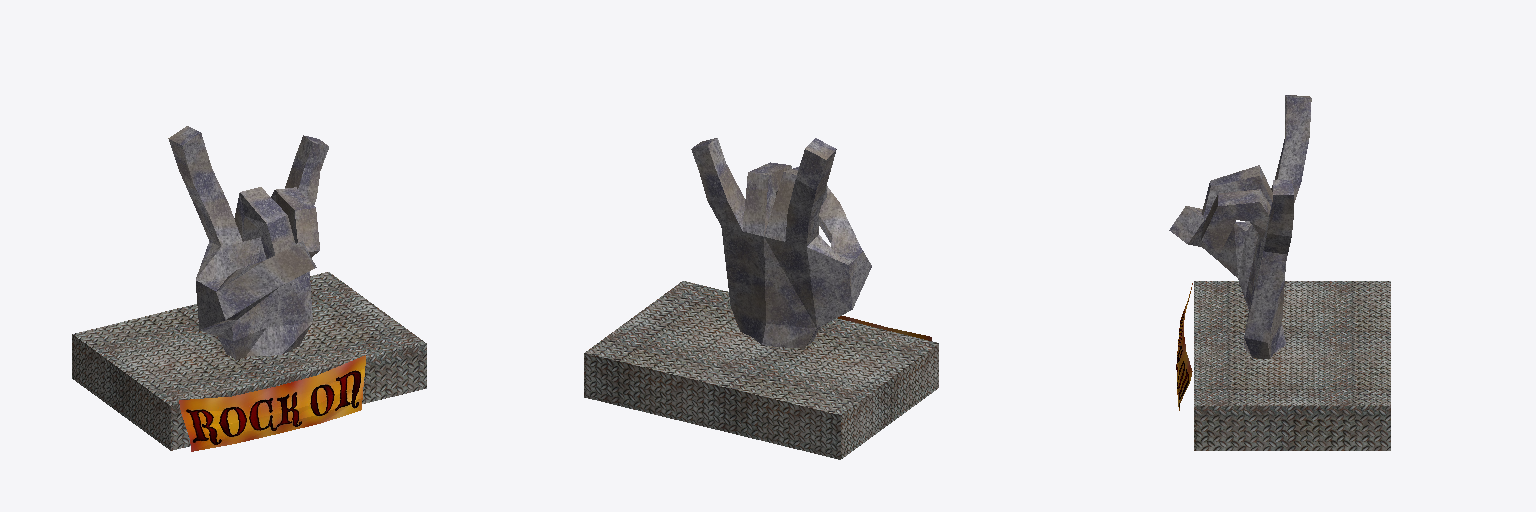
3 views of the same model, side by side, from view 1: azimuth 30°, elevation 25°; view 2: azimuth 150°, elevation 25°; view 3: azimuth 270°, elevation 25° (orthographic).
Parts seen in each view (by area): view 1: Cube; view 2: Cube; view 3: Cube.
Boxes of the visible parts, x1,y1,x2,y2 form: Cube: [72, 126, 426, 451]; Cube: [584, 138, 938, 459]; Cube: [1169, 95, 1390, 450].
Size of the model in its own units: 6 by 5.97 by 4.5.
Materials: 3 (3 with a texture image).